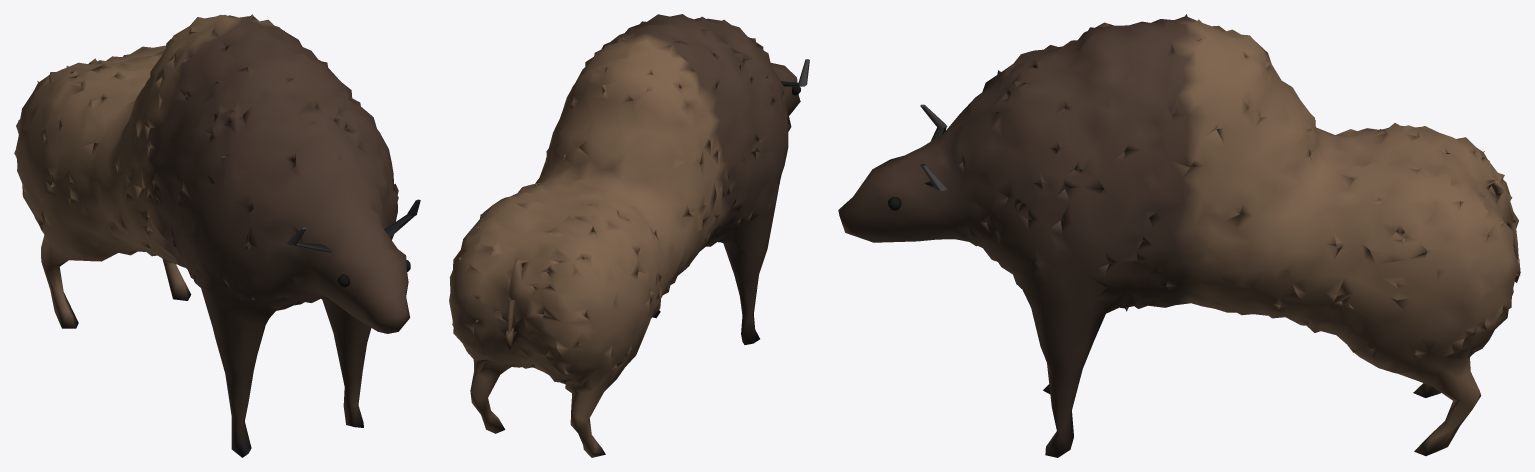
Rendered from bison.glb.
3 views of the same model, side by side, from view 1: azimuth 30°, elevation 25°; view 2: azimuth 150°, elevation 25°; view 3: azimuth 270°, elevation 25° (orthographic). The views are drawn at different scales.
Parts seen in each view (by area): view 1: lack; view 2: lack; view 3: lack.
Boxes of the visible parts, x1=… form: lack: x1=14, y1=14, x2=420, y2=457; lack: x1=449, y1=14, x2=809, y2=457; lack: x1=838, y1=14, x2=1520, y2=457.
Bounding box in the file's own units: 1.25 × 2.3 × 3.54.
